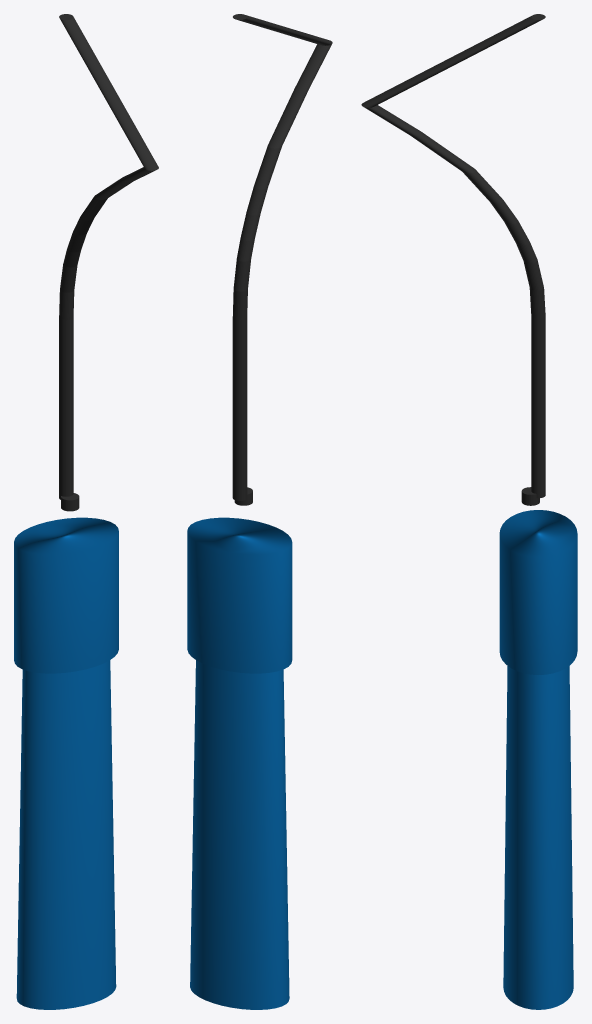
Rendered from BukulebilirFircaUcu.fbx.
3 renders of one model, left to right at view 1: azimuth 30°, elevation 25°; view 2: azimuth 150°, elevation 25°; view 3: azimuth 270°, elevation 25°, orthographic.
Visible parts, largest first — view 1: Cylinder.001, Cylinder.002; view 2: Cylinder.001, Cylinder.002; view 3: Cylinder.001, Cylinder.002.
Boxes of the visible parts, x1,y1,x2,y2 form: Cylinder.001: [14, 517, 118, 1009]; Cylinder.002: [59, 14, 158, 499]; Cylinder.001: [187, 517, 292, 1009]; Cylinder.002: [232, 14, 332, 500]; Cylinder.001: [499, 510, 577, 1009]; Cylinder.002: [361, 14, 545, 498].
Size of the model in its own units: 23.28 by 223 by 45.04.
